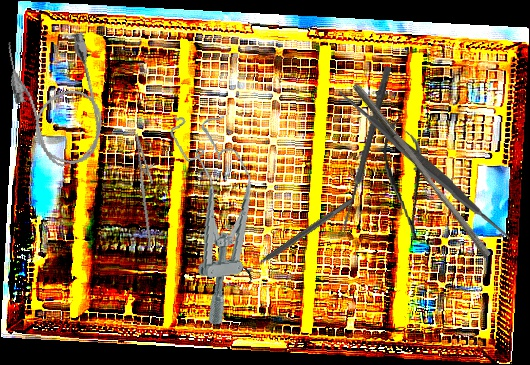Cannula: (1, 24, 113, 174)
Fixation Ring: (238, 193, 357, 285)
Micro Scissor: (377, 117, 433, 243)
Needle Holder: (121, 131, 174, 247)
Pusher: (345, 81, 498, 260)
Spatula Surgical: (336, 79, 513, 252)
Speculum: (167, 107, 269, 328)
Surgical Spoon: (339, 65, 392, 235)
